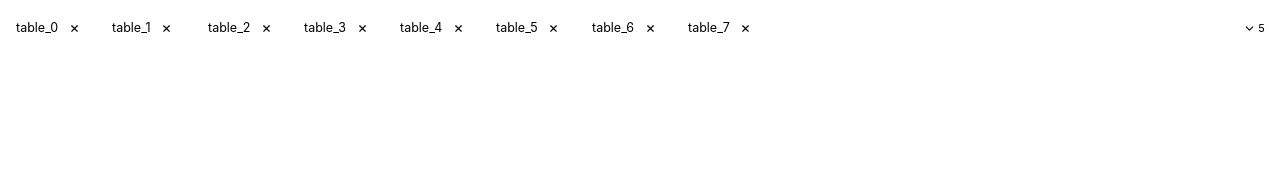
Test: TabStrip overflow — the menu › lists exactly the hidden tabs, in tab order
Press the mouse on the button titled "Hidden tabs" at (1254, 28), box [1232,12,1276,44]
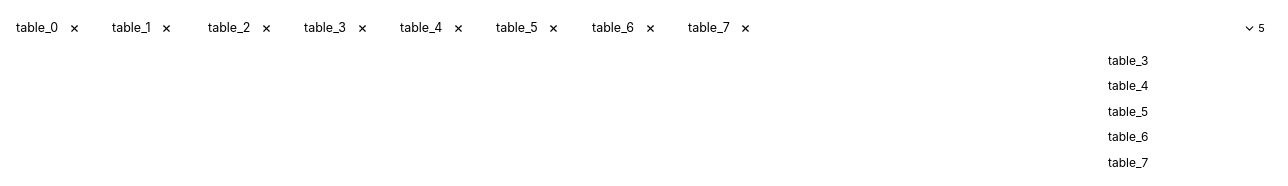
Check: the menu items read "table_3", "table_4", "table_5", "table_6", "table_7", in this order, box [1108,53,1148,68]; [1108,78,1148,93]; [1108,104,1148,119]; [1108,129,1148,144]; [1108,155,1148,170]
